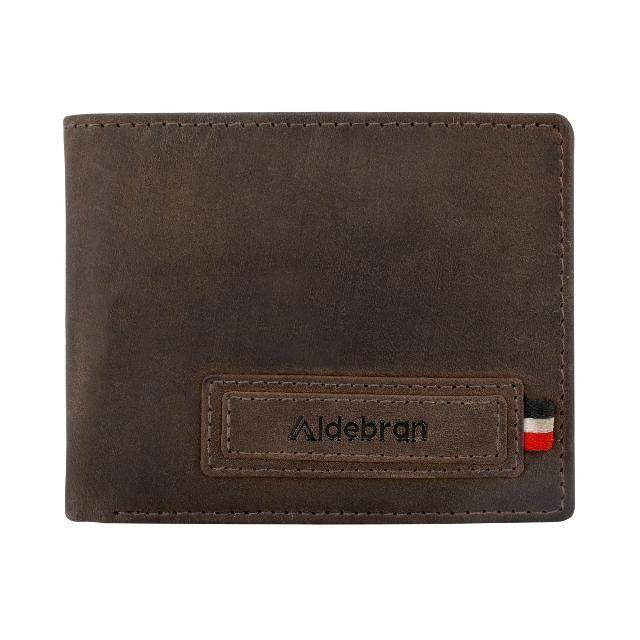wallet: (59, 106, 576, 528)
